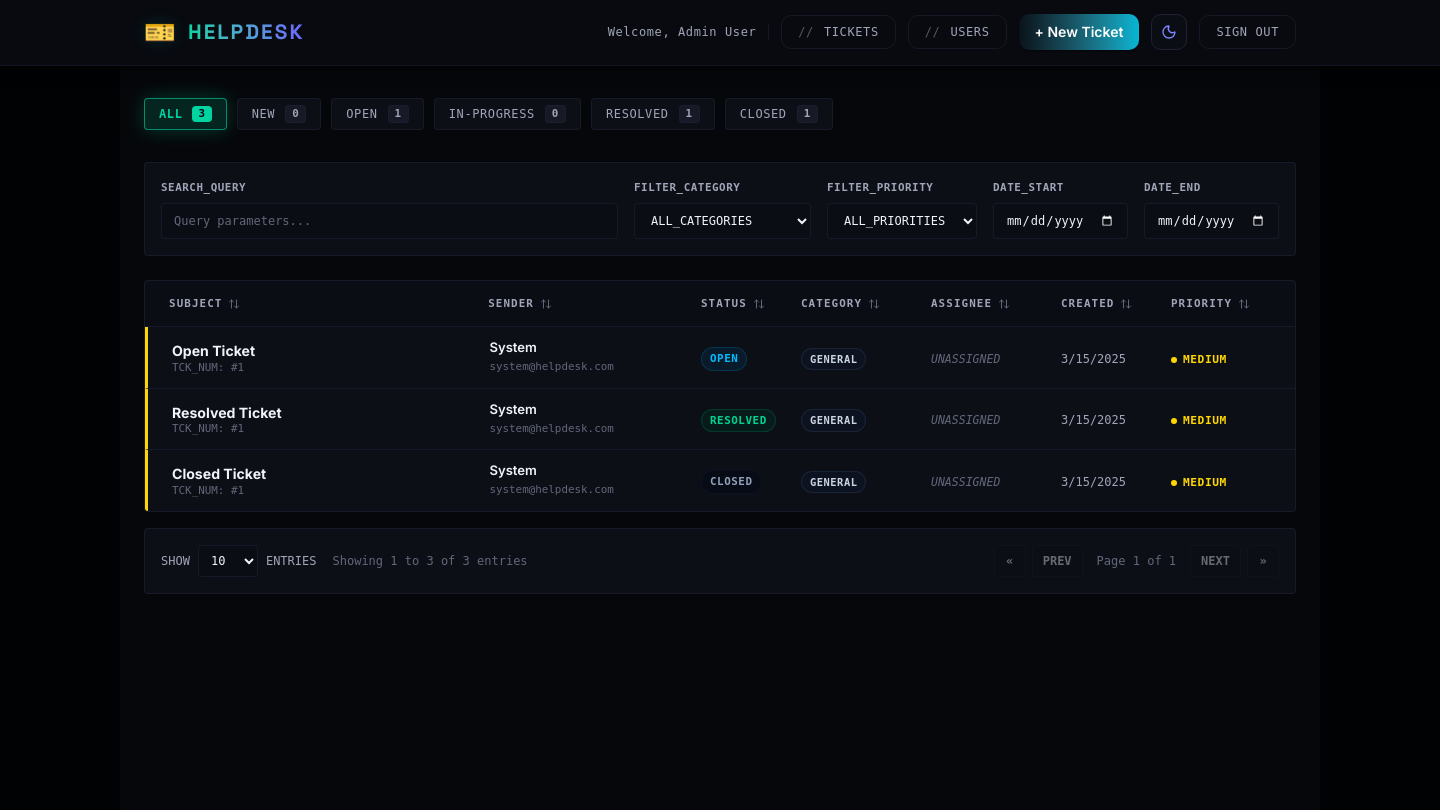
Test: TicketsList › should filter tickets by status when filter buttons are clicked
The image size is (1440, 810).
Expected: the heading "Open Ticket" is shown, [172, 342, 255, 359]
Expected: the heading "Resolved Ticket" is shown, [172, 404, 282, 421]
# Open filter
Click the button "open 1". click: (378, 114)
box: [331, 98, 424, 130]
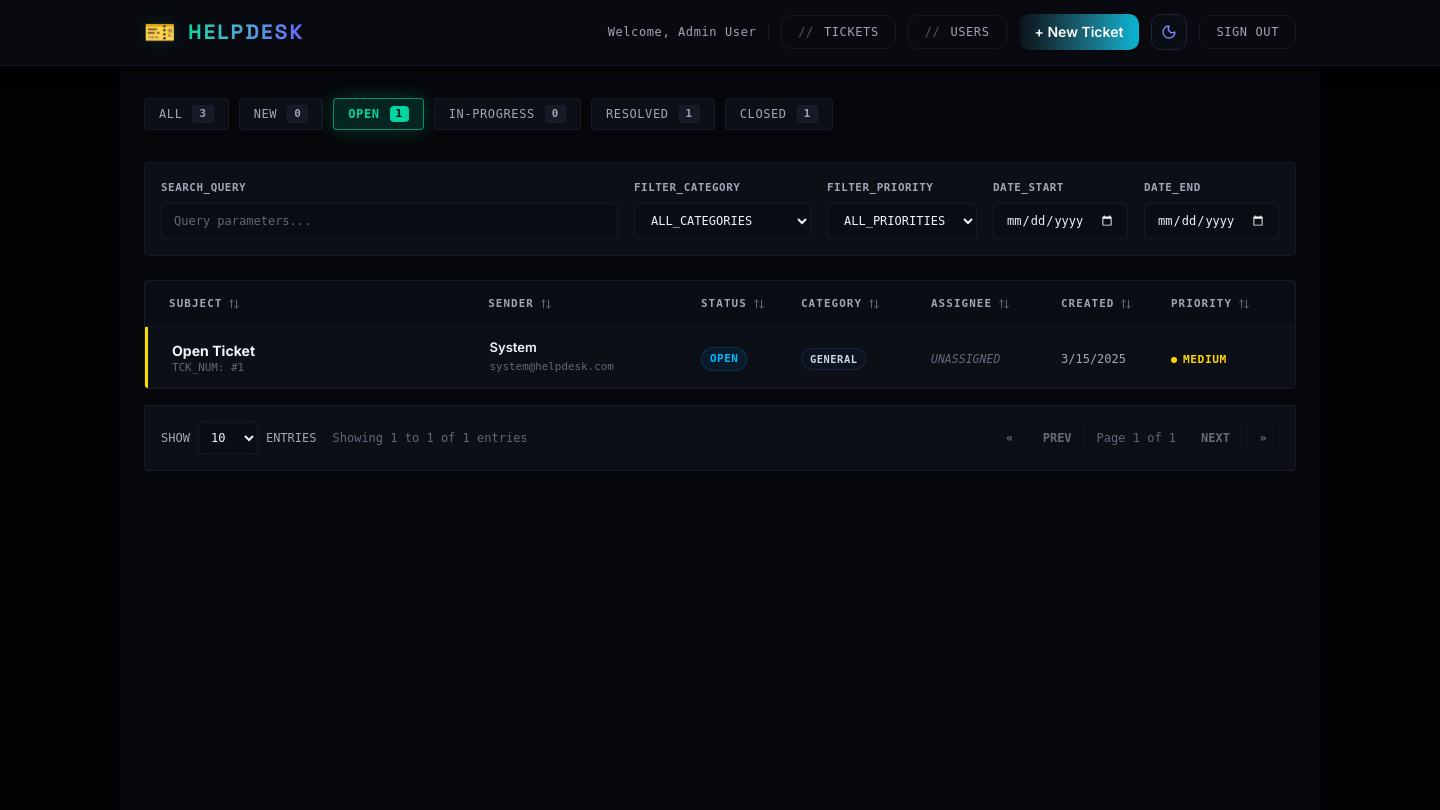
Expected: the heading "Open Ticket" is shown, [172, 342, 255, 359]
Expected: the link "Resolved Ticket" is gone
Expected: the link "Closed Ticket" is gone
# Resolved filter
Click the button "resolved 1". click: (653, 114)
box: [591, 98, 715, 130]
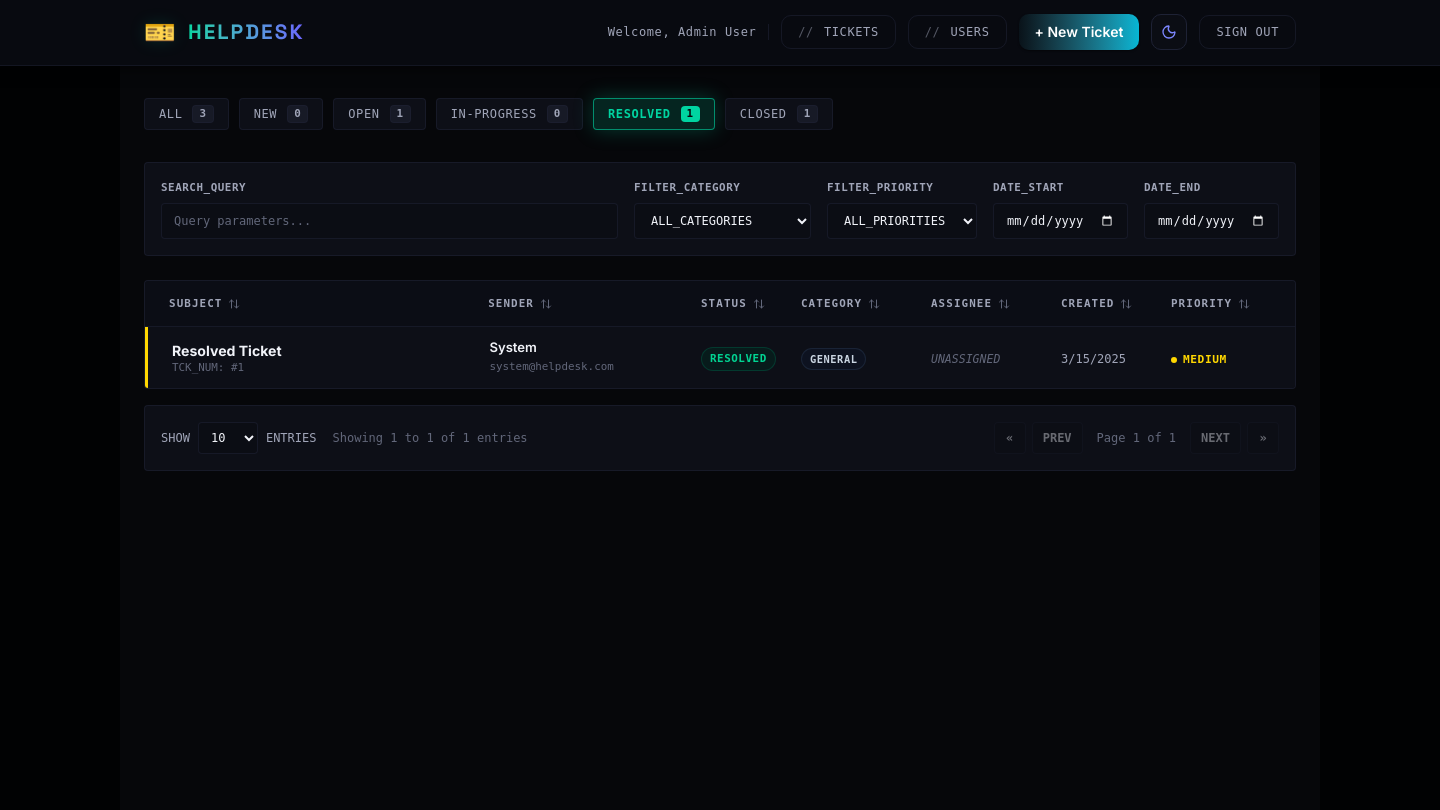
Expected: the link "Closed Ticket" is not shown
Expected: the heading "Resolved Ticket" is shown, [172, 342, 282, 359]
Expected: the link "Open Ticket" is gone
# Closed filter
Click the button "closed 1". click: (779, 114)
box: [725, 98, 833, 130]
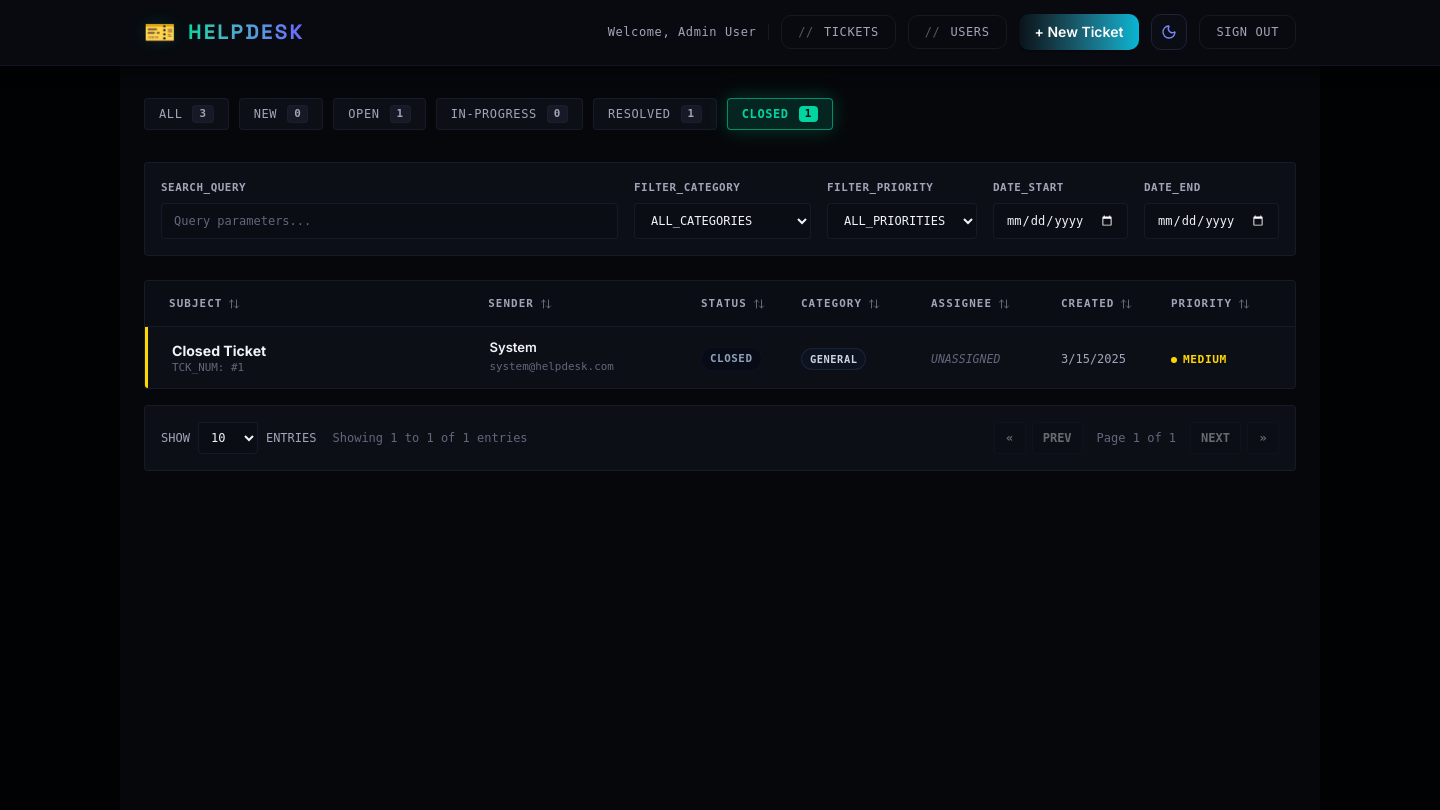
Expected: the link "Open Ticket" is not shown
Expected: the heading "Closed Ticket" is shown, [172, 342, 266, 359]
Expected: the link "Resolved Ticket" is gone
# Back to All
Click the button "all 3". click: (186, 114)
box: [144, 98, 229, 130]
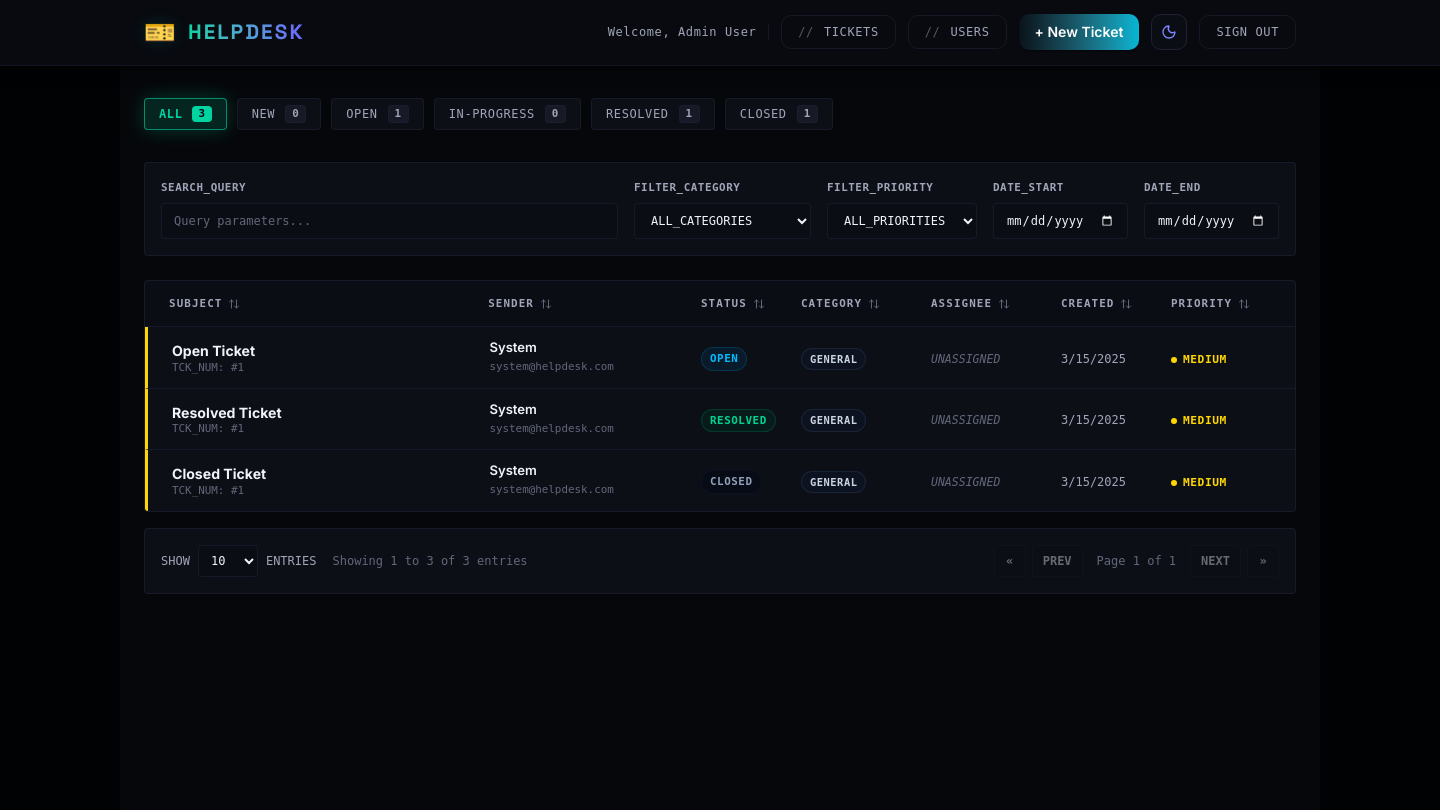
Expected: the heading "Closed Ticket" is shown, [172, 465, 266, 482]
Expected: the heading "Open Ticket" is shown, [172, 342, 255, 359]
Expected: the heading "Resolved Ticket" is shown, [172, 404, 282, 421]
